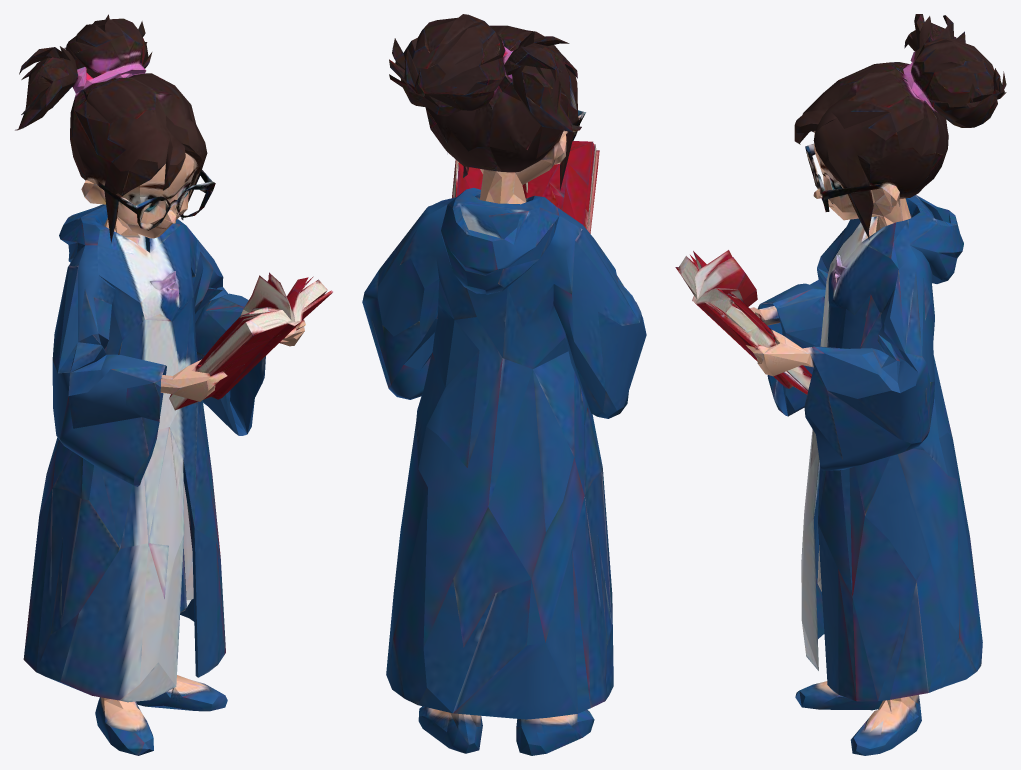
The model's file is held_gelehrter.glb.
The picture shows the model from 3 angles, left to right: view 1: azimuth 30°, elevation 25°; view 2: azimuth 150°, elevation 25°; view 3: azimuth 270°, elevation 25°; orthographic projection. The views are drawn at different scales.
Size of the model in its own units: 0.6504 by 1.9 by 0.8399.
Materials: 1 (1 with a texture image).
